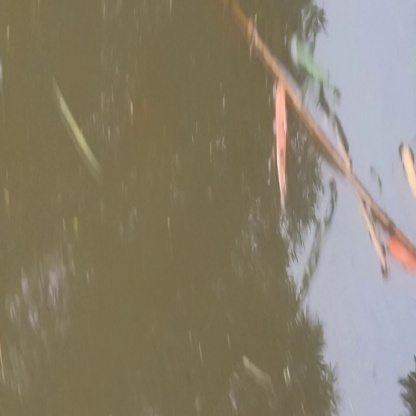branch: (238, 15, 416, 268)
